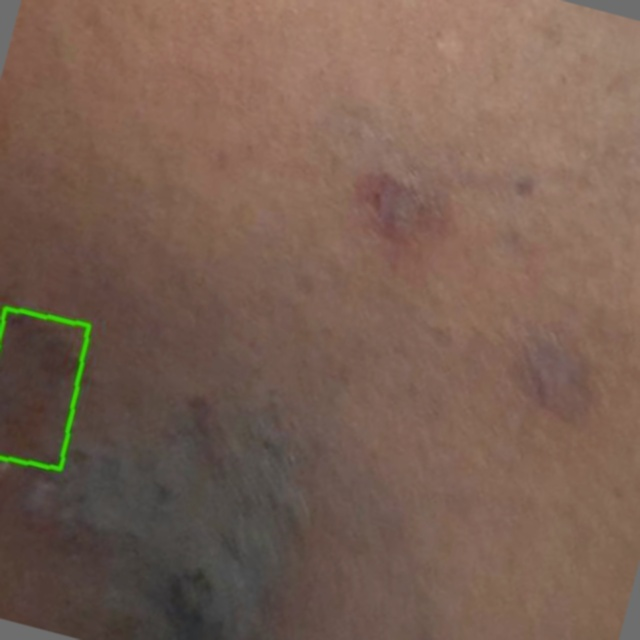Contact Dermatitis: (0, 309, 89, 470)
